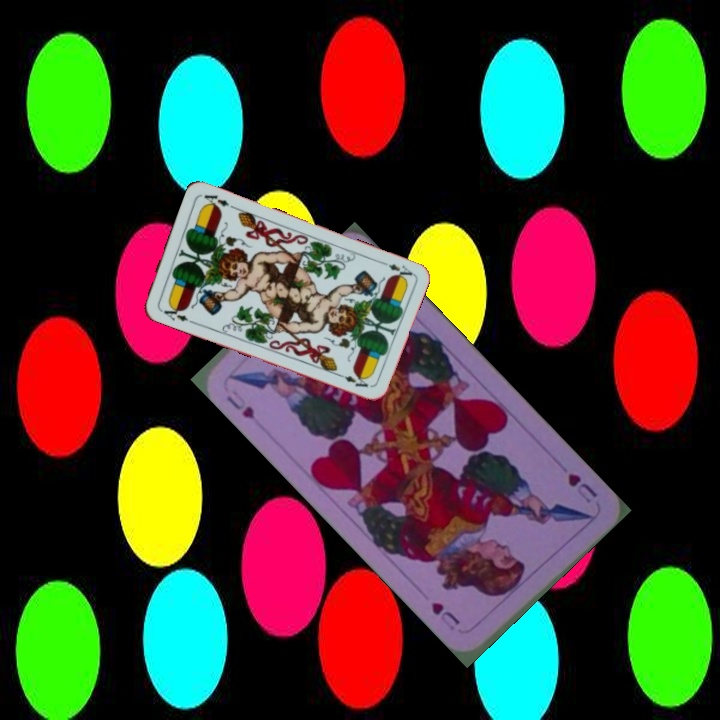EA: (376, 257, 415, 282), (160, 300, 191, 324)
HU: (563, 469, 600, 507), (222, 386, 257, 422)
